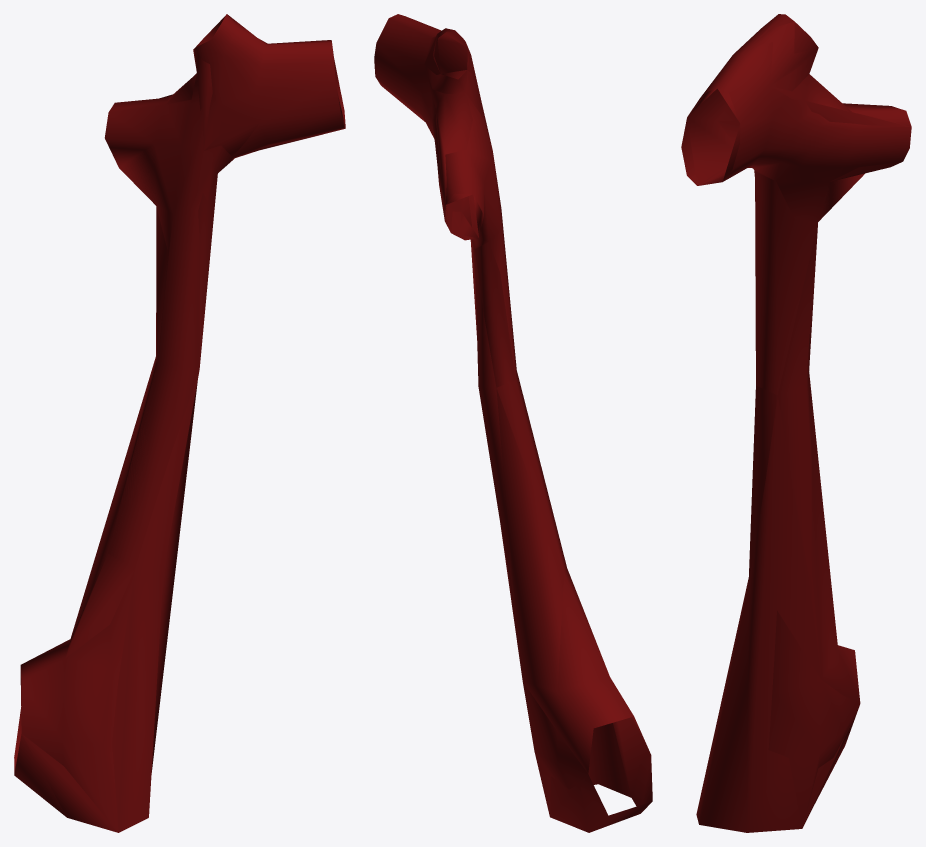
File: R axillaris.fbx
3 renders of one model, left to right at view 1: azimuth 30°, elevation 25°; view 2: azimuth 150°, elevation 25°; view 3: azimuth 270°, elevation 25°, orthographic. The views are drawn at different scales.
Parts seen in each view (by area): view 1: R axillaris, R axillaris low; view 2: R axillaris, R axillaris low; view 3: R axillaris low, R axillaris.
Part boxes in pixels (x1,y1,x2,y2): R axillaris: (14, 14, 345, 832); R axillaris low: (14, 15, 345, 832); R axillaris: (374, 14, 652, 832); R axillaris low: (424, 30, 652, 832); R axillaris low: (687, 15, 910, 832); R axillaris: (681, 14, 911, 828).
Size of the model in its own units: 3.47 by 8.32 by 1.97.
